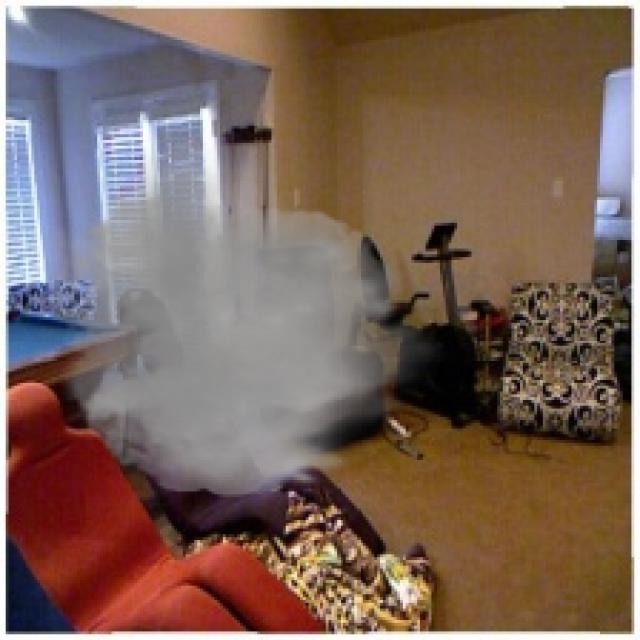smoke: (29, 137, 452, 506)
